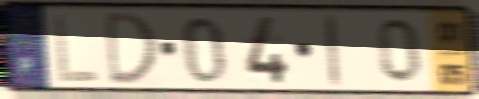0: (178, 14, 231, 85), (375, 16, 426, 86)
4: (244, 13, 291, 86)
D: (103, 9, 160, 88)
I: (322, 12, 344, 90)
L: (51, 10, 102, 85)
